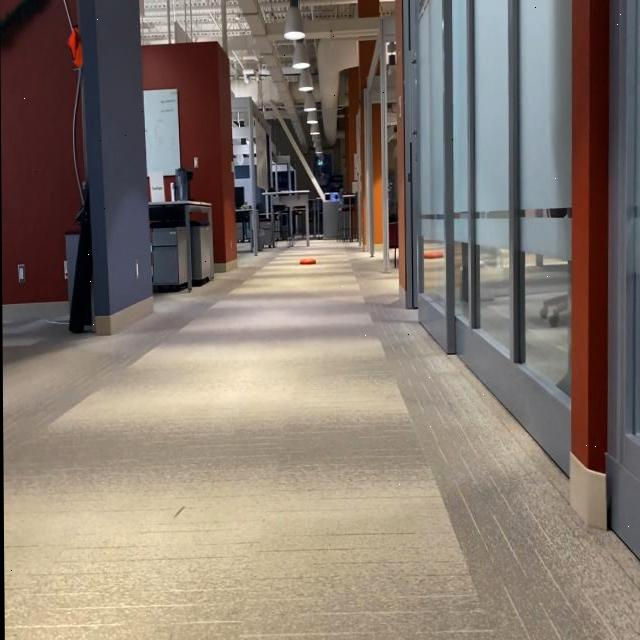note: (299, 256, 317, 266)
